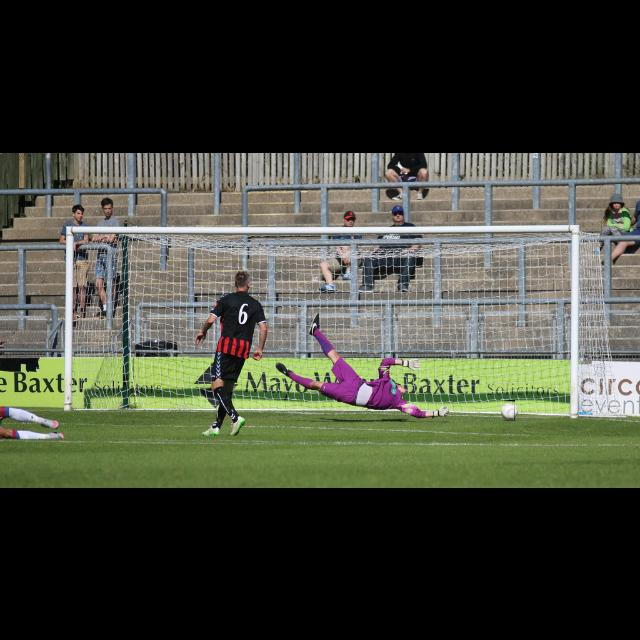Football: (501, 400, 515, 420)
